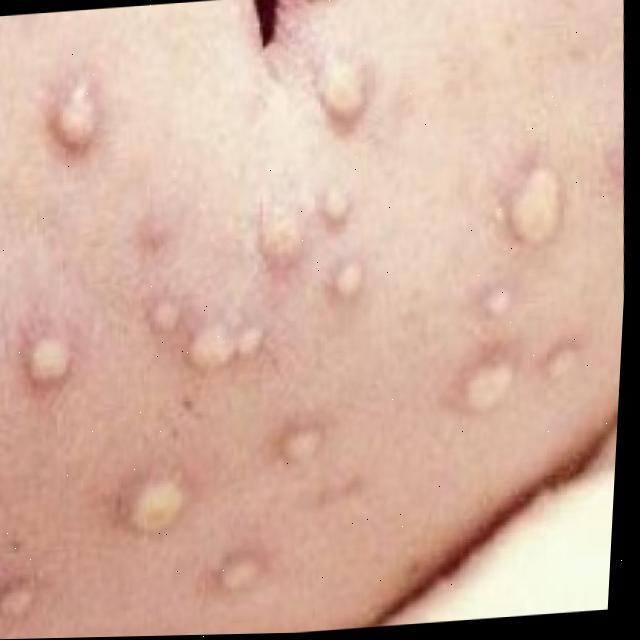Eczema: (0, 26, 638, 635)
